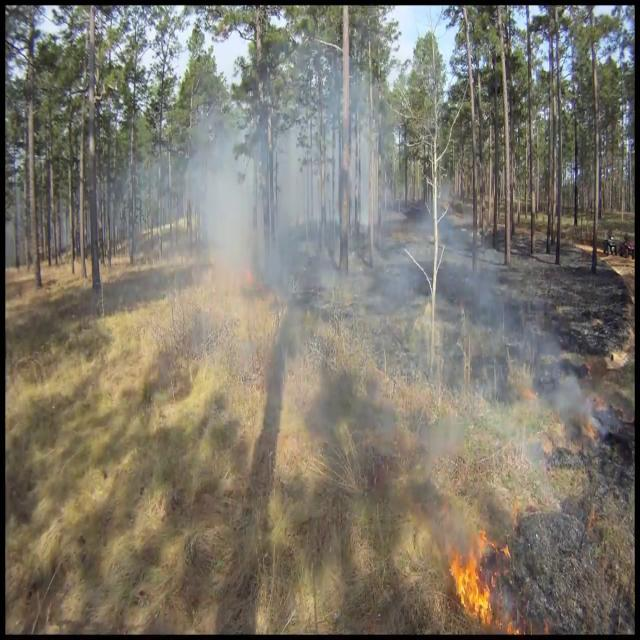Fire: (444, 526, 510, 624)
Smoke: (334, 195, 606, 528), (157, 61, 392, 427)
